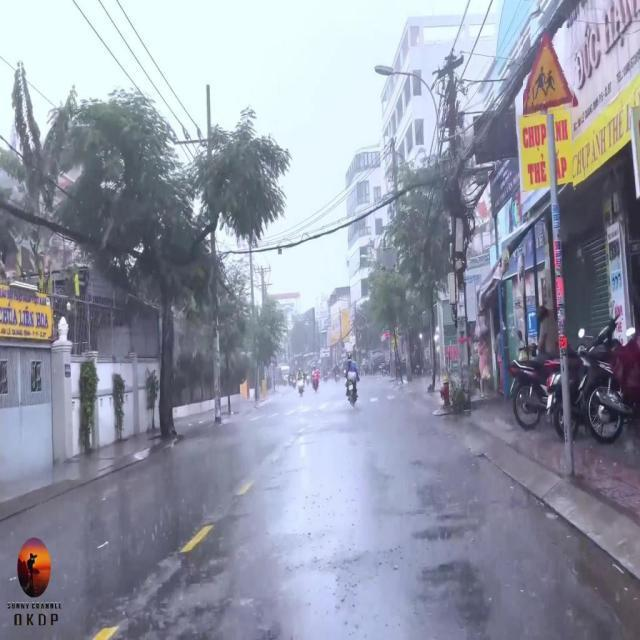225-chu-y-tre-em: (520, 32, 574, 112)
